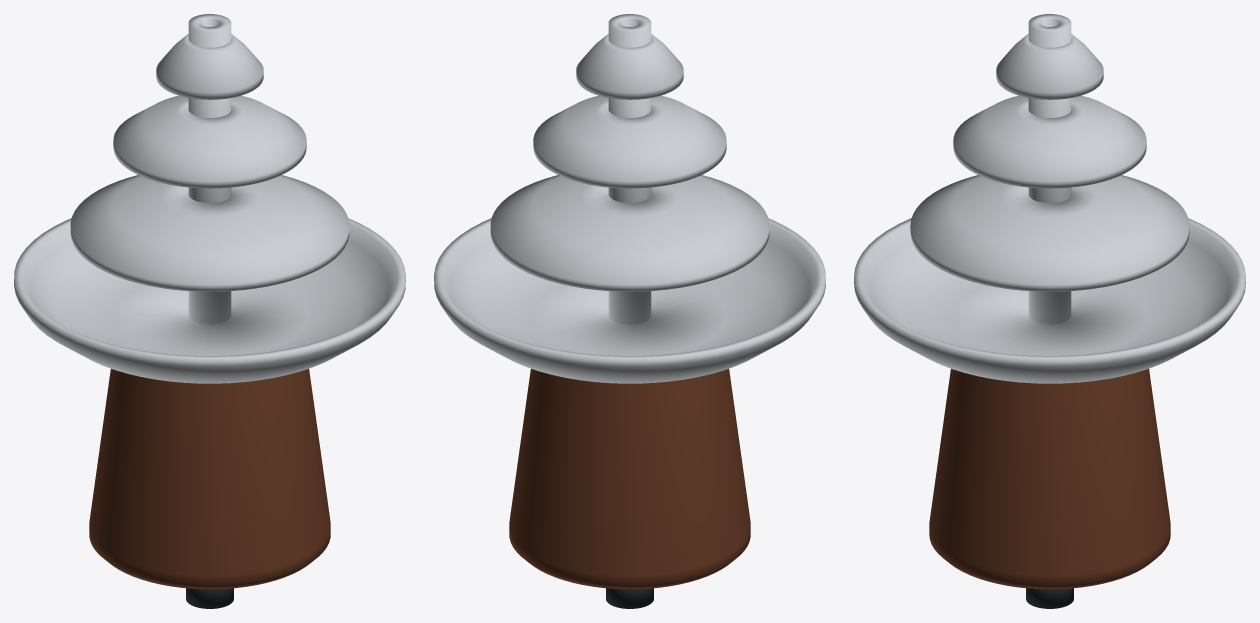
Rendered from full.glb.
3 renders of one model, left to right at view 1: azimuth 30°, elevation 25°; view 2: azimuth 150°, elevation 25°; view 3: azimuth 270°, elevation 25°, orthographic.
Visible parts, largest first — view 1: Tapered motor pedestal, Shallow open collection bowl, Lower cascade dome tier, Middle cascade dome tier, Upper cascade dome tier, Continuous hollow central neck, Small foot 2; view 2: Tapered motor pedestal, Shallow open collection bowl, Lower cascade dome tier, Middle cascade dome tier, Upper cascade dome tier, Continuous hollow central neck, Small foot 1; view 3: Tapered motor pedestal, Shallow open collection bowl, Lower cascade dome tier, Middle cascade dome tier, Upper cascade dome tier, Continuous hollow central neck, Small foot 0.
Boxes of the visible parts, x1,y1,x2,y2 form: Tapered motor pedestal: [89, 369, 330, 589]; Shallow open collection bowl: [14, 218, 405, 383]; Lower cascade dome tier: [70, 175, 349, 291]; Middle cascade dome tier: [113, 95, 306, 188]; Upper cascade dome tier: [156, 34, 263, 99]; Continuous hollow central neck: [188, 14, 231, 324]; Small foot 2: [186, 588, 233, 608]; Tapered motor pedestal: [509, 369, 750, 589]; Shallow open collection bowl: [434, 218, 825, 383]; Lower cascade dome tier: [490, 175, 769, 291]; Middle cascade dome tier: [533, 95, 726, 188]; Upper cascade dome tier: [576, 34, 683, 99]; Continuous hollow central neck: [608, 14, 651, 324]; Small foot 1: [606, 588, 653, 608]; Tapered motor pedestal: [929, 369, 1170, 589]; Shallow open collection bowl: [854, 218, 1245, 383]; Lower cascade dome tier: [910, 175, 1189, 291]; Middle cascade dome tier: [953, 95, 1146, 188]; Upper cascade dome tier: [996, 34, 1103, 99]; Continuous hollow central neck: [1028, 14, 1071, 324]; Small foot 0: [1026, 588, 1073, 608].
Size of the model in its own units: 0.1461 by 0.2222 by 0.1461.
